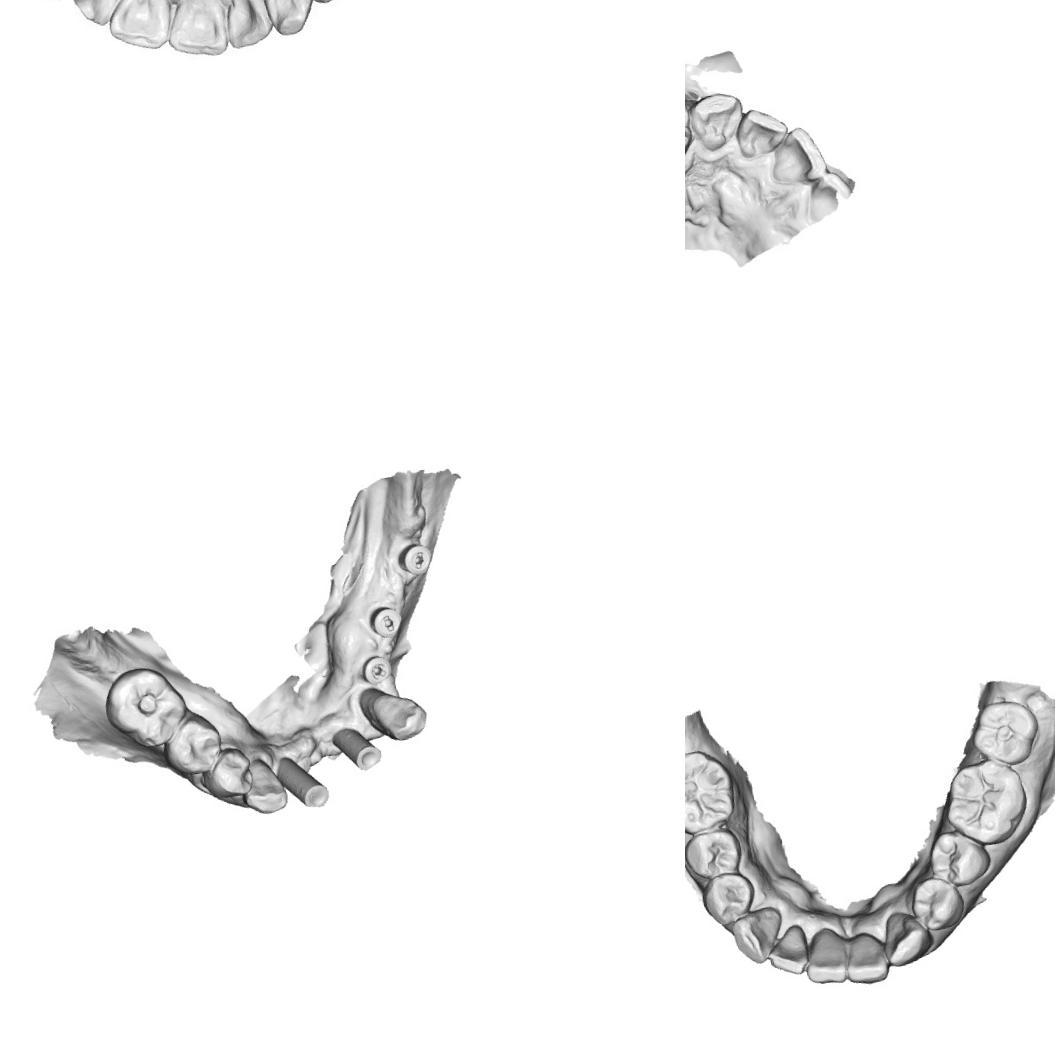canine: (687, 88, 750, 156), (728, 902, 790, 968), (368, 686, 431, 746), (879, 904, 936, 970), (236, 752, 291, 819), (261, 0, 317, 39)
implant: (275, 749, 333, 815), (328, 718, 384, 776), (395, 540, 436, 578)
implant_minus: (366, 602, 406, 642)
implant_plus: (358, 651, 396, 689)
incisor: (763, 123, 832, 194), (159, 0, 230, 64), (103, 0, 176, 57), (730, 100, 792, 166), (839, 927, 894, 988), (798, 924, 850, 988), (762, 920, 815, 980), (220, 0, 277, 49), (68, 0, 126, 29)
molar: (937, 754, 1035, 853), (99, 659, 194, 756), (964, 694, 1045, 771), (685, 744, 742, 838)
premolar: (158, 709, 227, 781), (924, 824, 996, 892), (906, 871, 970, 935), (698, 868, 761, 930), (685, 824, 747, 882), (199, 744, 258, 802)
